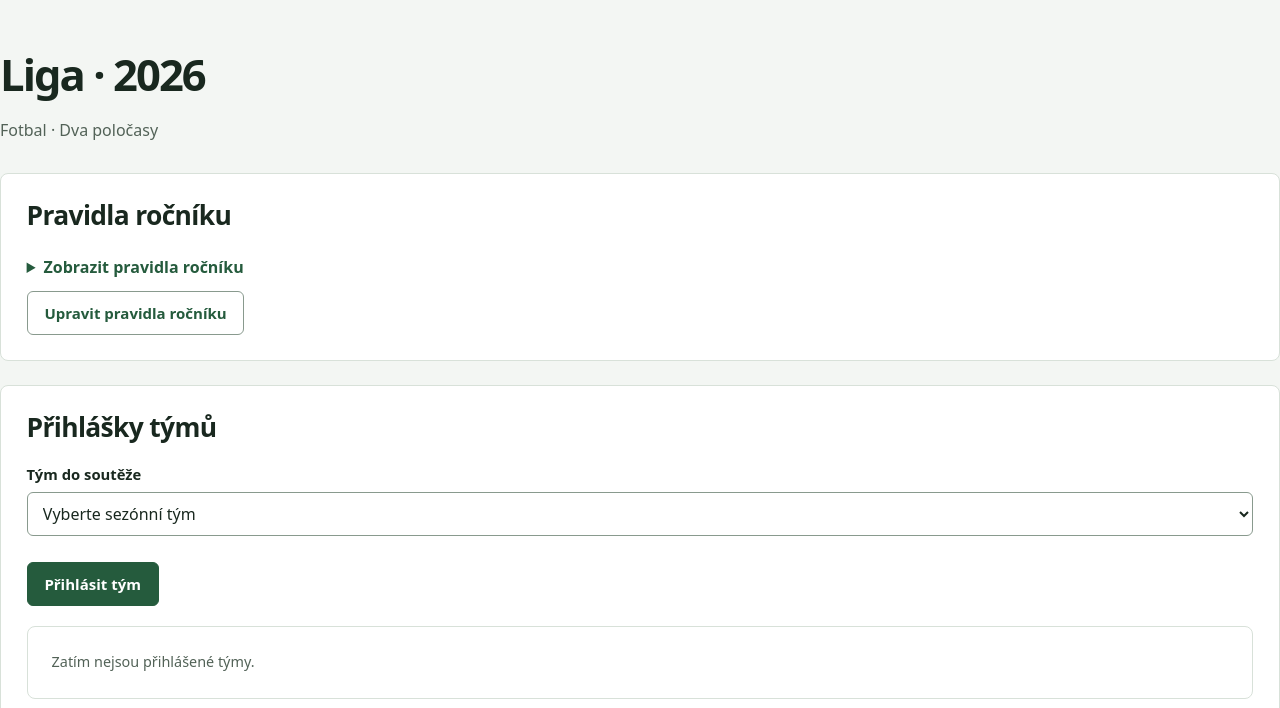
P4 soutěže a ročníky › přihláška používá verzi ročníku a nové načtení, odebrání má CSRF a přesnou verzi
Select "Klub 2026" in the dropdown labelled "Tým do soutěže" at (640, 514), box [27,492,1253,536]
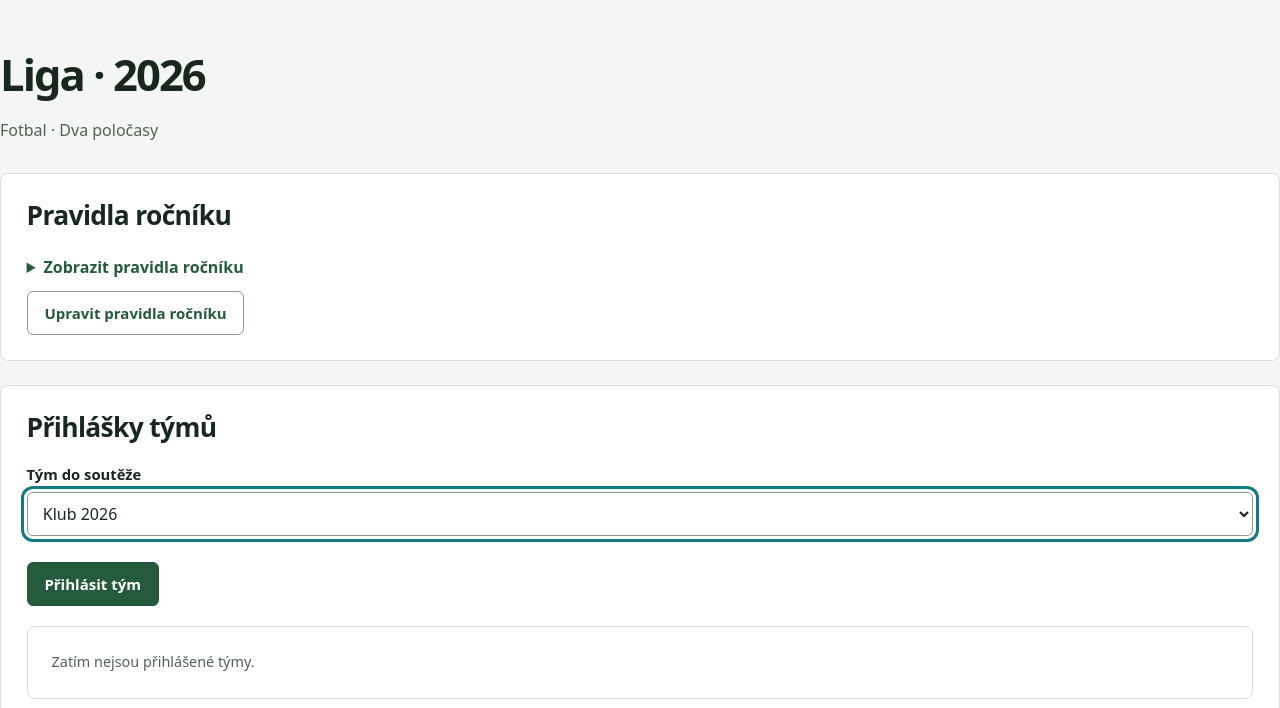
Click the button "Přihlásit tým" at (93, 584), box [27,562,159,606]
(page scrolled)
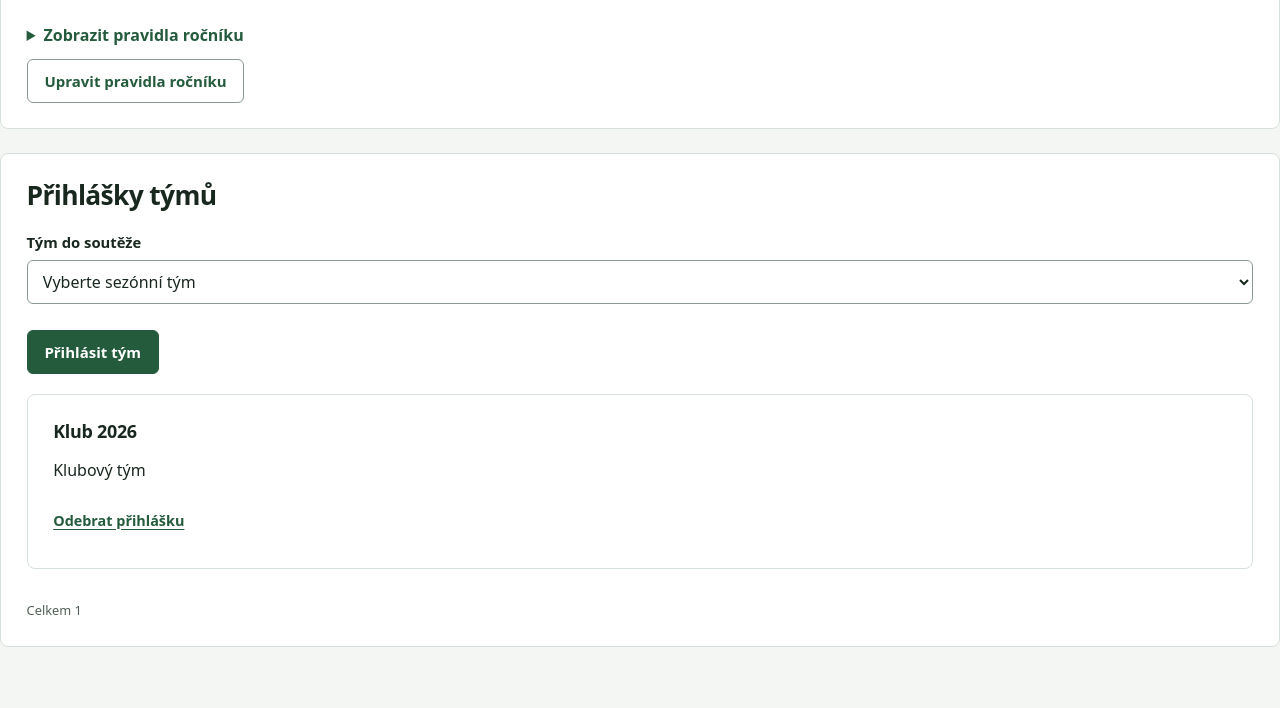
Click the button "Odebrat přihlášku" at (119, 521), box [53,499,184,543]
(page scrolled)
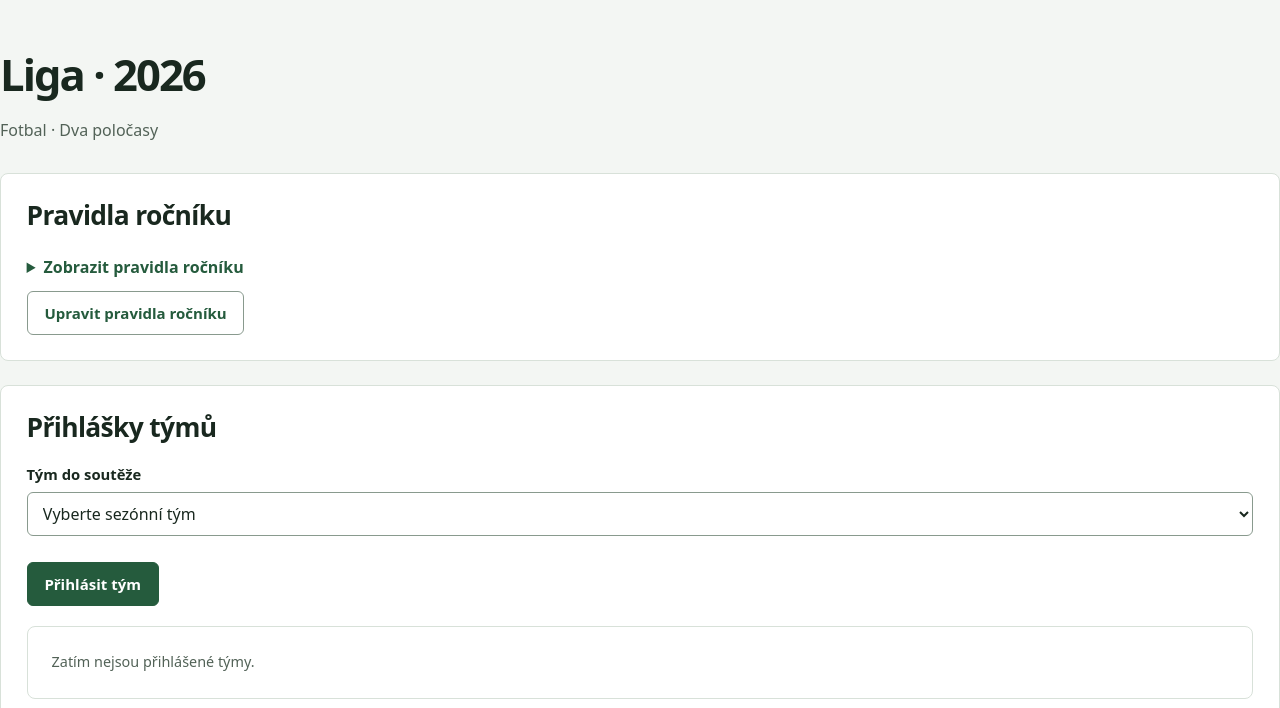
Result: the text "Zatím nejsou přihlášené týmy." is shown at [52,652,254,671]
